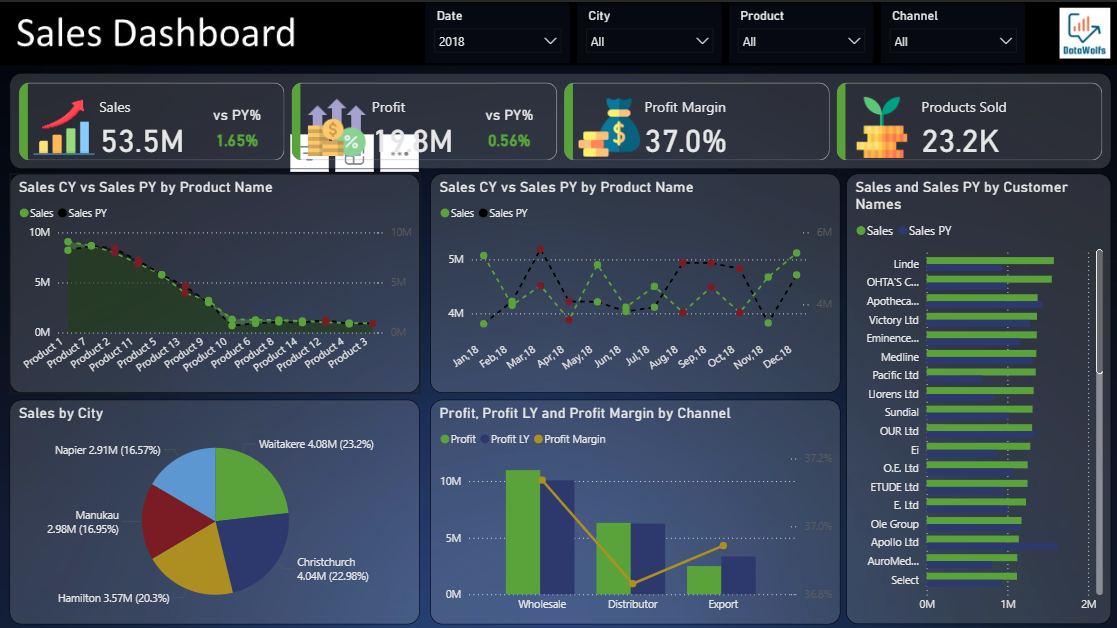

What the dashboard file says about the page in this screenshot:
{"tool":"powerbi","page":{"name":"Sales Dashboard","canvas":[1280,720],"ordinal":0},"visuals":[{"type":"slicer","fields":{"Values":["DateTable.Year","DateTable.Month Short Name Plus Year"]},"box":[488.2,1.4,165,67.7],"z":0},{"type":"slicer","fields":{"Values":["Regions_Table.City"]},"box":[661,1.4,165,67.7],"z":1000},{"type":"slicer","fields":{"Values":["Products_Data.Product Name"]},"box":[833.8,1.4,165,67.7],"z":2000},{"type":"slicer","fields":{"Values":["Sales_Data.Channel"]},"box":[1006.6,1.4,165,67.7],"z":3000},{"type":"lineClusteredColumnComboChart","title":"Sales CY vs Sales PY by Product Name","fields":{"Category":["Products_Data.Product Name"],"Y":["Measure Table.Sales"],"Y2":["Measure Table.Sales PY"]},"box":[13,195.8,468,250.6],"z":4000},{"type":"lineClusteredColumnComboChart","title":"Sales CY vs Sales PY by Product Name","fields":{"Y":["Measure Table.Sales"],"Y2":["Measure Table.Sales PY"],"Category":["DateTable.Month Short Name Plus Year"]},"box":[492.5,195.8,468,250.6],"z":5000},{"type":"donutChart","fields":{"Y":["Measure Table.Sales"],"Category":["Regions_Table.City"]},"box":[13,453.6,468,256.3],"z":6000},{"type":"areaChart","fields":{"Category":["Sales_Data.Channel"],"Y":["Measure Table.Profit","Measure Table.Profit LY"],"Y2":["Measure Table.Profit Margin"]},"box":[492.5,453.6,468,256.3],"z":7000},{"type":"clusteredBarChart","fields":{"Y":["Measure Table.Sales","Measure Table.Sales PY"],"Category":["Customer_Data.Customer Names"]},"box":[967.7,195.8,302.4,514.1],"z":8000},{"type":"cardVisual","fields":{"Data":["Measure Table.Sales","Measure Table.Profit","Measure Table.Profit Margin","Measure Table.Products Sold"]},"box":[13,80.6,1257.1,109.4],"z":9000},{"type":"card","title":"vs PY%","fields":{"Values":["Measure Table.Sales vs PY %"]},"box":[226.1,119.5,93.6,60.5],"z":10000},{"type":"card","title":"vs PY%","fields":{"Values":["Measure Table.Profit vs LY %"]},"box":[535.7,119.5,93.6,60.5],"z":11000}]}

Visuals, with their boxes in screenshot pixels (x1, y1, x2, y2), scaled from the page's 1280x720 canvas onto the 1117x628 screenshot:
slicer - DateTable.Year x DateTable.Month Short Name Plus Year: region(426, 1, 570, 60)
slicer - Regions_Table.City: region(577, 1, 721, 60)
slicer - Products_Data.Product Name: region(728, 1, 872, 60)
slicer - Sales_Data.Channel: region(878, 1, 1022, 60)
"Sales CY vs Sales PY by Product Name" lineClusteredColumnComboChart: region(11, 171, 420, 389)
"Sales CY vs Sales PY by Product Name" lineClusteredColumnComboChart: region(430, 171, 838, 389)
donutChart - Measure Table.Sales x Regions_Table.City: region(11, 396, 420, 619)
areaChart - Sales_Data.Channel x Measure Table.Profit: region(430, 396, 838, 619)
clusteredBarChart - Measure Table.Sales x Measure Table.Sales PY: region(844, 171, 1108, 619)
cardVisual - Measure Table.Sales x Measure Table.Profit: region(11, 70, 1108, 166)
"vs PY%" card: region(197, 104, 279, 157)
"vs PY%" card: region(467, 104, 549, 157)
